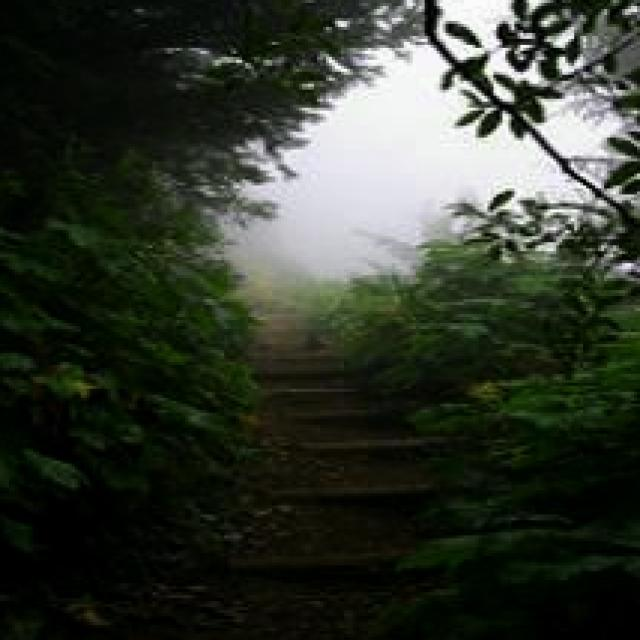upstair: (231, 315, 432, 569)
